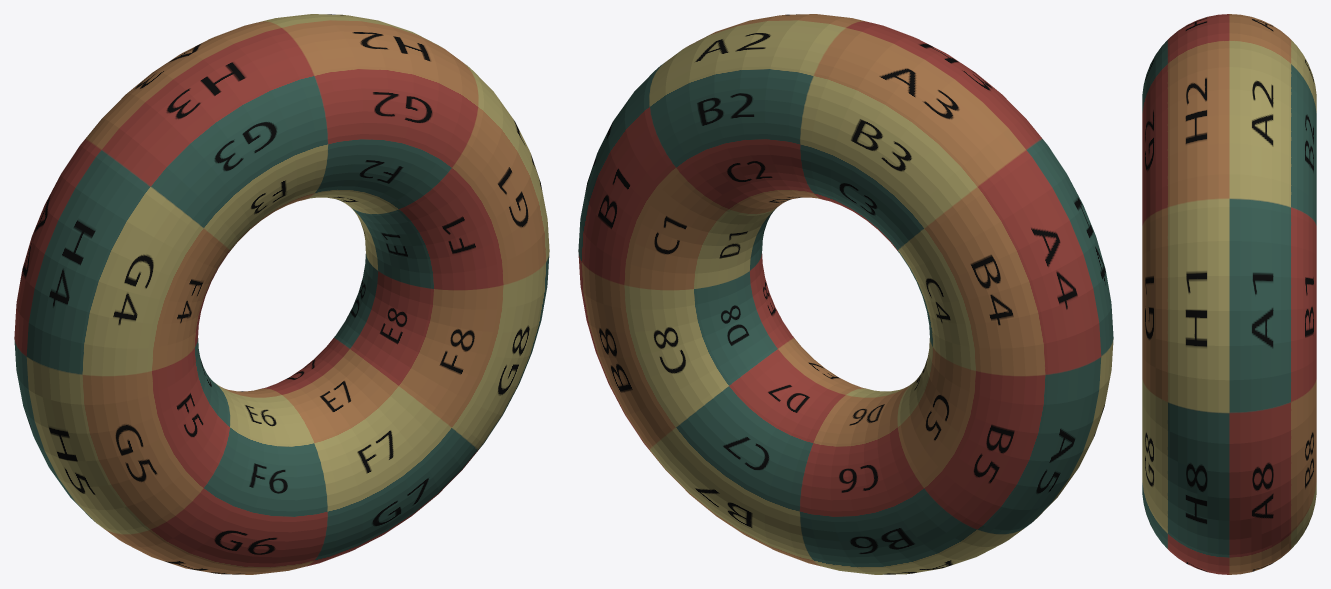
The model's file is texture_torus_R4_r14.glb.
The picture shows the model from 3 angles, left to right: view 1: azimuth 30°, elevation 25°; view 2: azimuth 150°, elevation 25°; view 3: azimuth 270°, elevation 25°; orthographic projection. The views are drawn at different scales.
Parts seen in each view (by area): view 1: world; view 2: world; view 3: world.
Part boxes in pixels (bbox=[...]): world: bbox=[14, 14, 549, 574]; world: bbox=[578, 14, 1113, 574]; world: bbox=[1142, 14, 1316, 574].
Size of the model in its own units: 18.4 by 18.36 by 5.72.
1 material, 1 textured.
